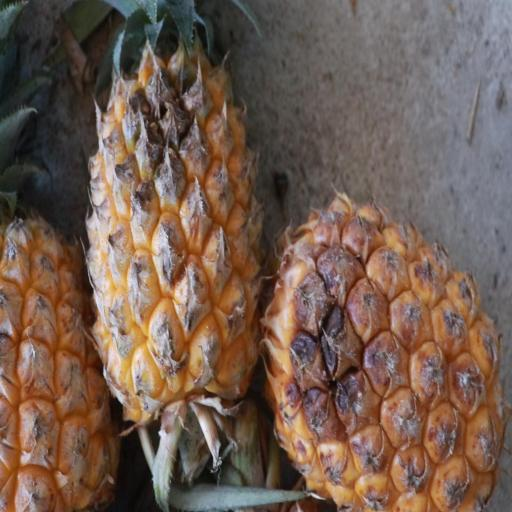Pineapple - v8 v1: (84, 0, 269, 438), (261, 197, 509, 512), (1, 0, 123, 512)
